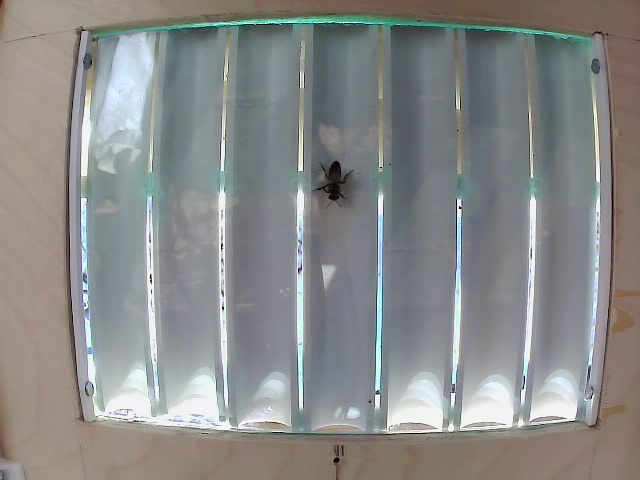bee: (316, 144, 350, 205)
